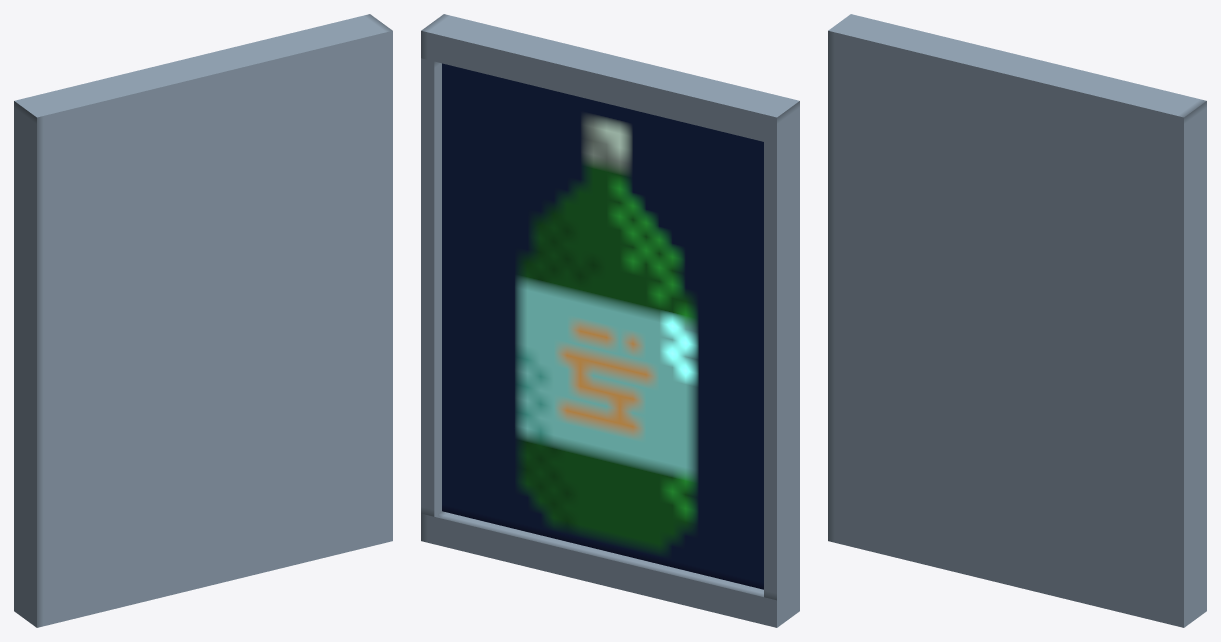
Rendered from butelka_picku_neon.dae.
3 renders of one model, left to right at view 1: azimuth 30°, elevation 25°; view 2: azimuth 150°, elevation 25°; view 3: azimuth 330°, elevation 25°, orthographic.
Visible parts, largest first — view 1: Content; view 2: Content; view 3: Content.
Part boxes in pixels (x1,y1,x2,y2): Content: (14, 14, 392, 627); Content: (421, 14, 799, 627); Content: (828, 14, 1206, 627).
Bounding box in the file's own units: 27 × 37 × 3.
Materials: 1 (1 with a texture image).
